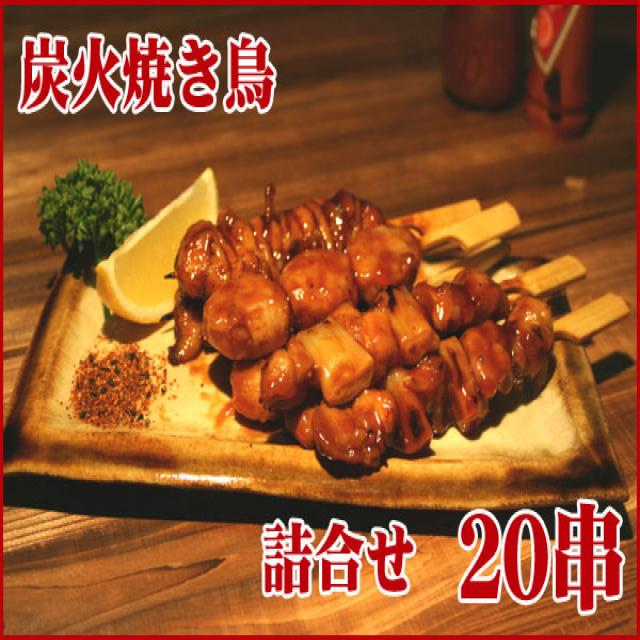烧串烤肉: (171, 157, 627, 478)
